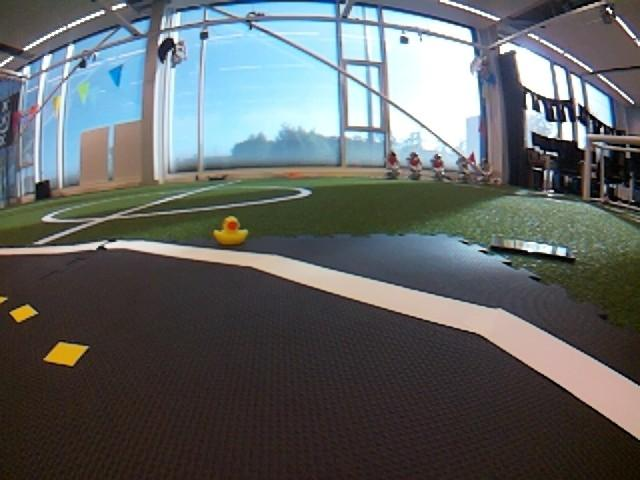Duckies: (212, 217, 247, 245)
